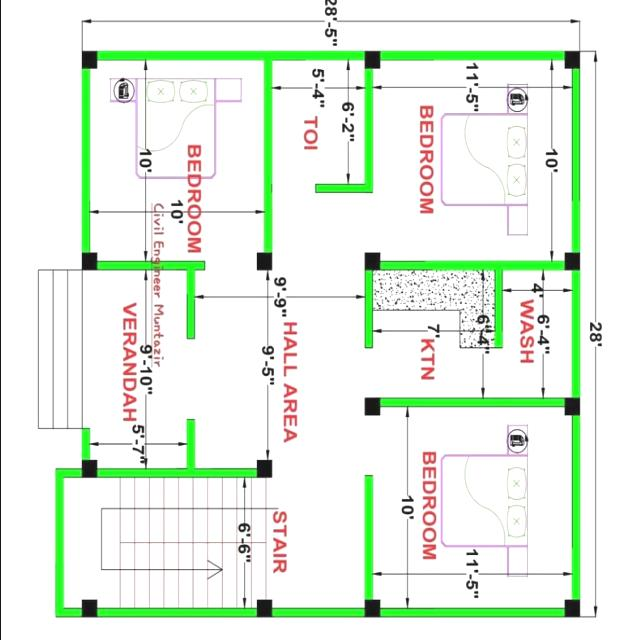column: (558, 44, 582, 74), (558, 392, 582, 420), (360, 594, 384, 622), (77, 246, 99, 276), (361, 247, 383, 277), (360, 46, 383, 73), (252, 248, 274, 276), (558, 249, 582, 274), (76, 596, 100, 621), (75, 47, 98, 73), (560, 594, 582, 620), (360, 394, 382, 418), (253, 457, 275, 481), (253, 597, 273, 623), (78, 456, 98, 482)
